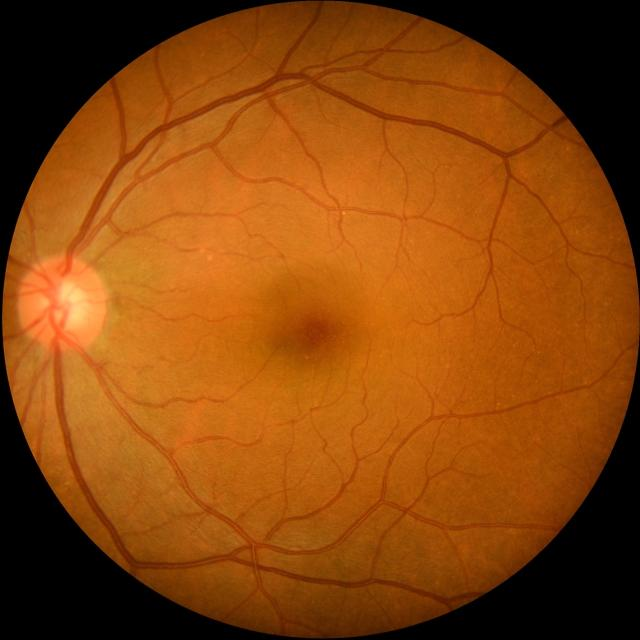OC: (43, 277, 87, 331)
OD: (17, 257, 107, 351)
